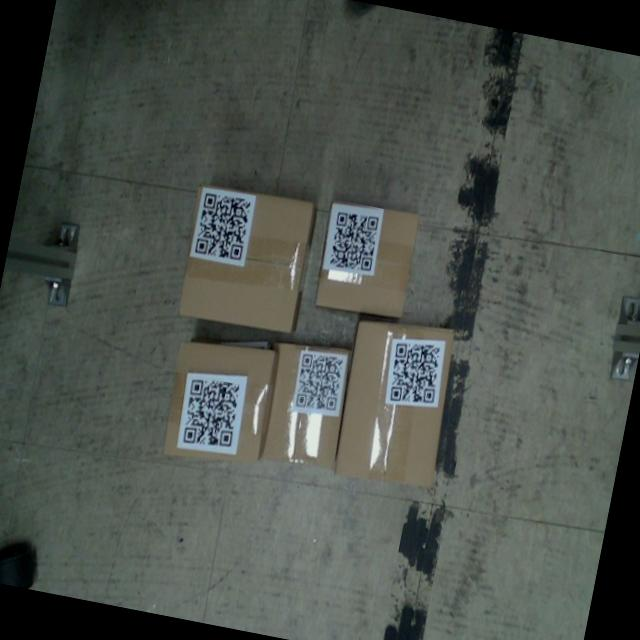box: (328, 310, 464, 498), (173, 179, 320, 339), (158, 331, 281, 475), (310, 194, 424, 324), (252, 334, 354, 472)
